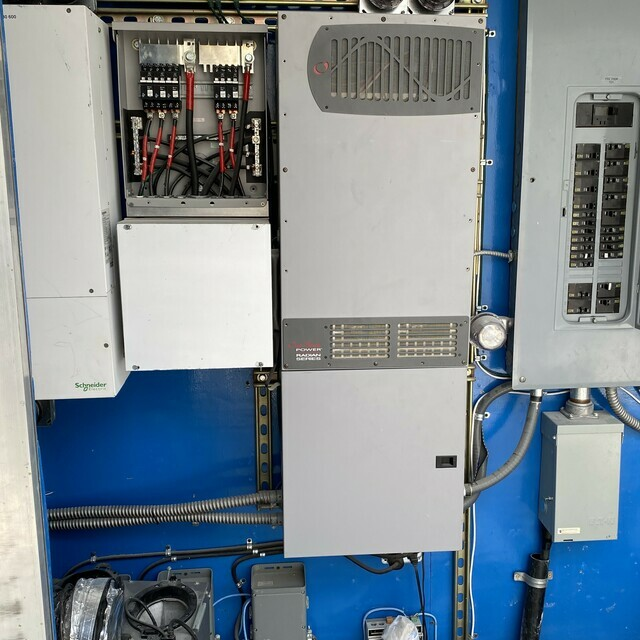inverter: (270, 1, 498, 562)
